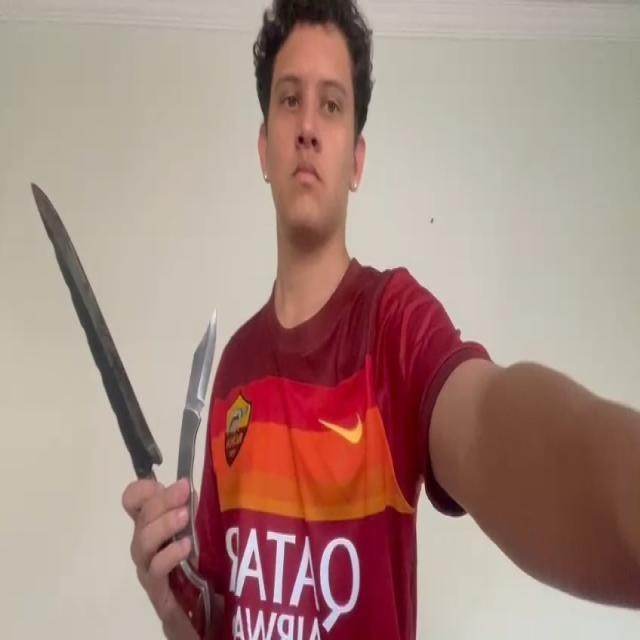knife: (31, 180, 165, 469), (184, 306, 219, 424)
